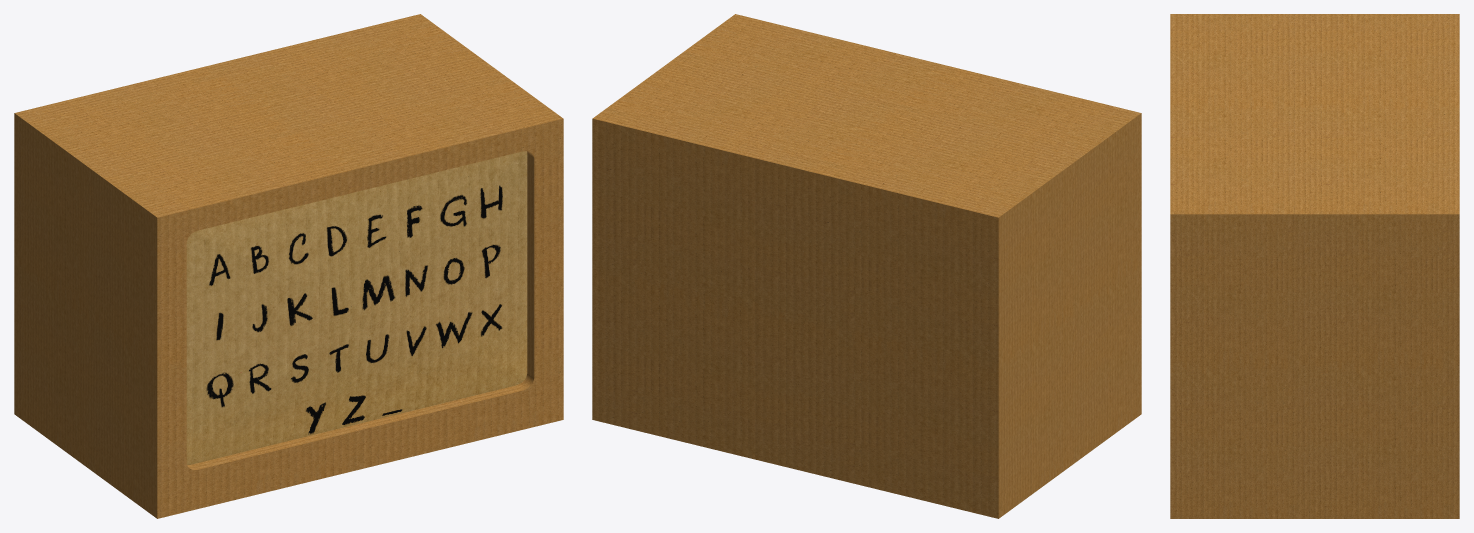
The model's file is CardboardTV.fbx.
The picture shows the model from 3 angles, left to right: view 1: azimuth 30°, elevation 25°; view 2: azimuth 150°, elevation 25°; view 3: azimuth 270°, elevation 25°; orthographic projection.
Parts seen in each view (by area): view 1: pCube1; view 2: pCube1; view 3: pCube1.
Boxes of the visible parts, <box> form: pCube1: <box>14,14,563,518</box>; pCube1: <box>592,14,1141,518</box>; pCube1: <box>1170,14,1459,518</box>.
Bounding box in the file's own units: 8.03 × 5.69 × 4.89.
2 materials, 2 textured.
